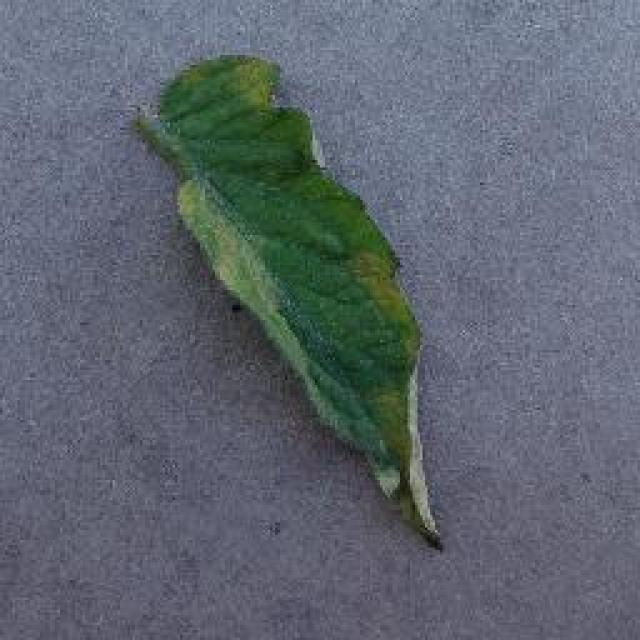leaf mold: (136, 54, 445, 554)
